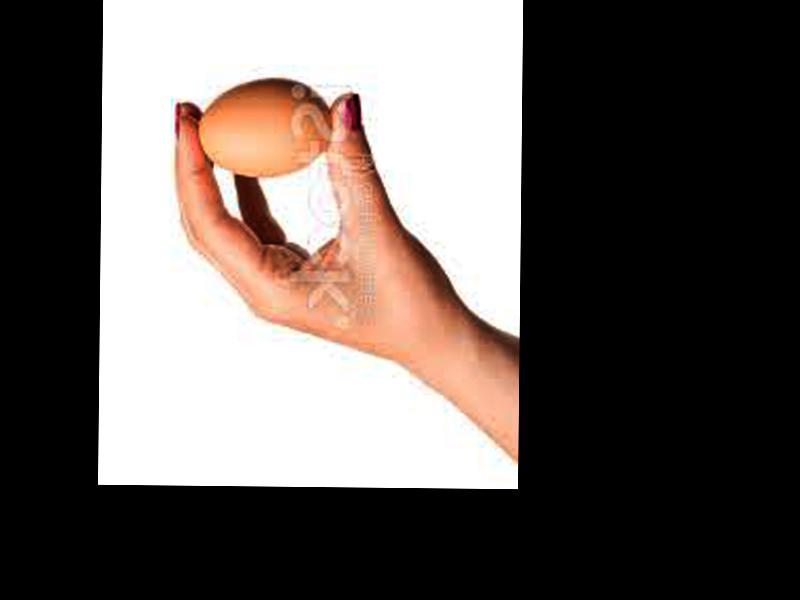Eggs: (198, 81, 333, 176)
